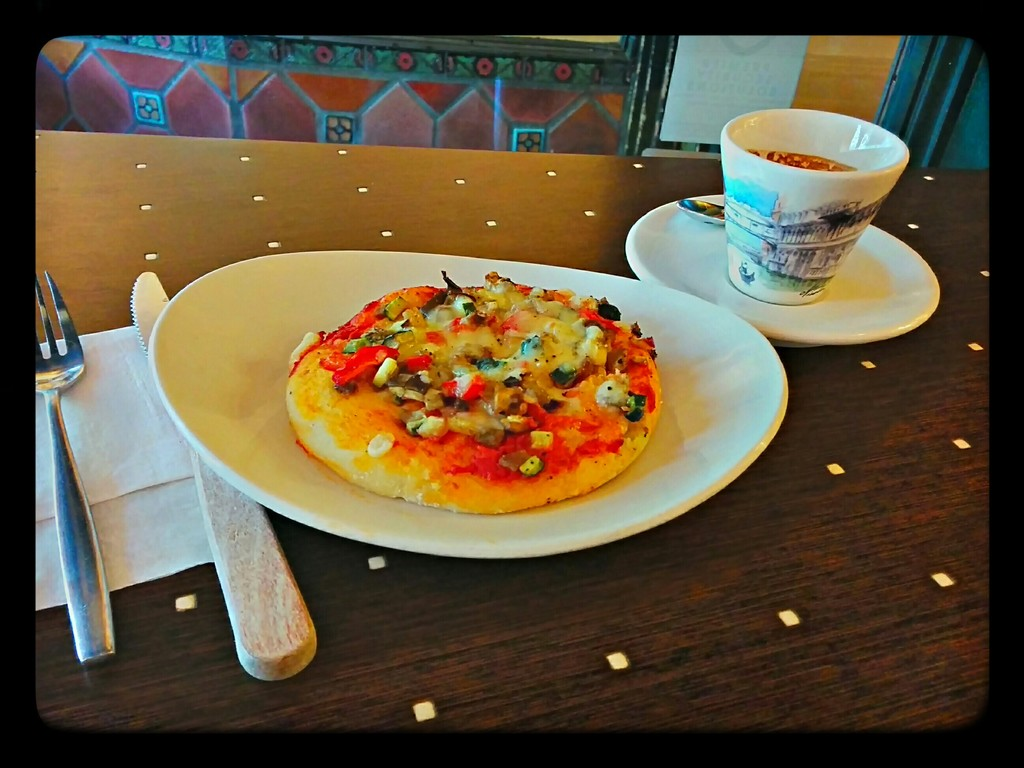Pizza: (277, 273, 677, 524)
